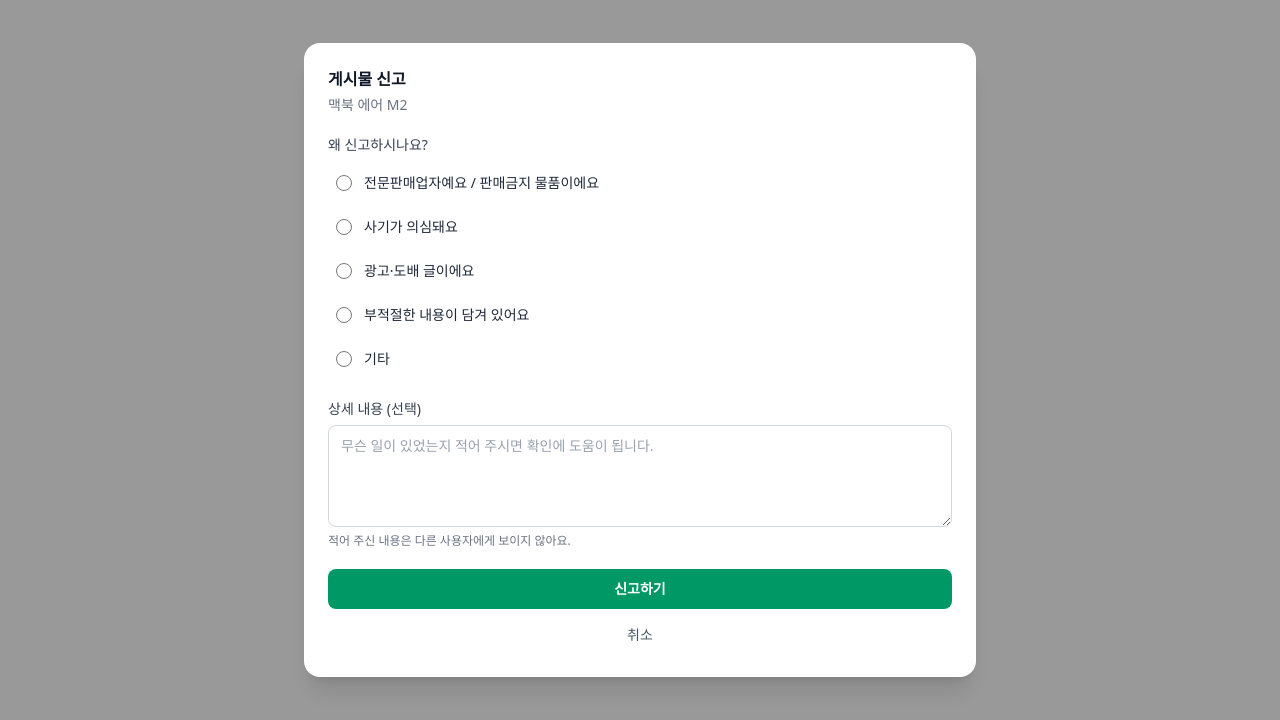
it: ReportSheet › 서버가 거절한 이유를 그대로 보여준다
Click the radio button labelled "사기가 의심돼요".
click(344, 227)  # box [336,219,352,235]
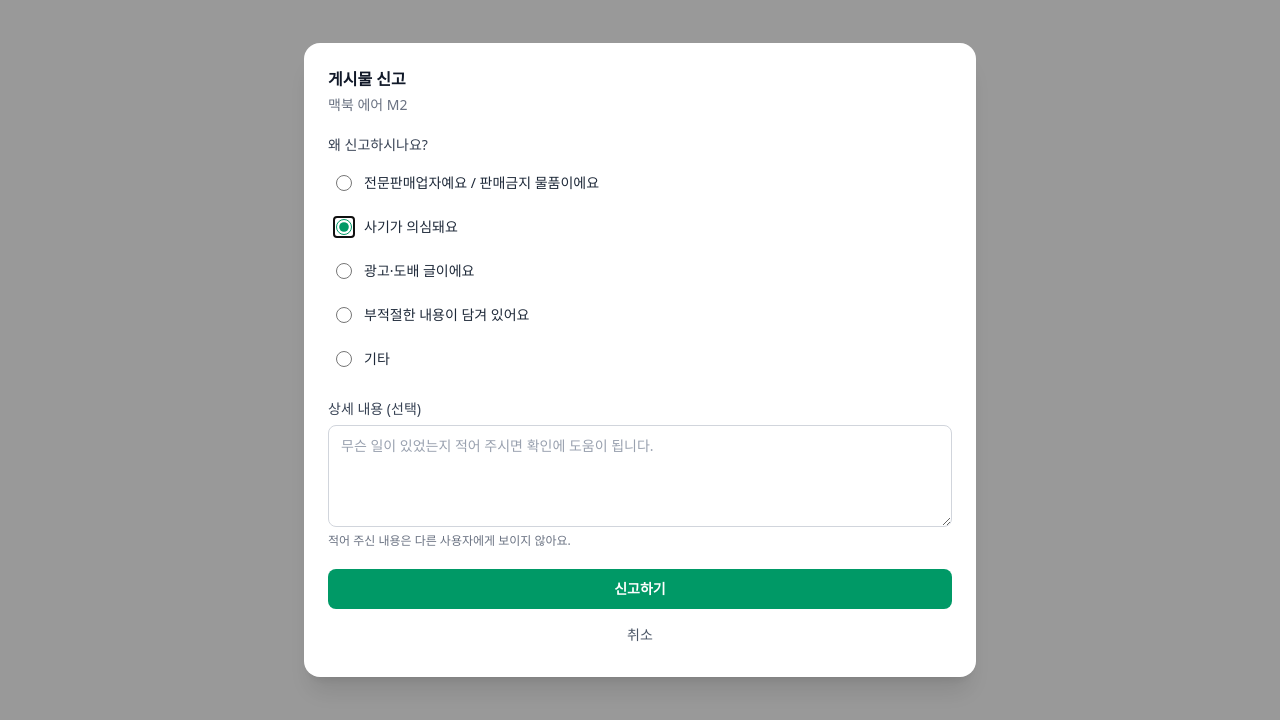
Click the button "신고하기".
click(640, 589)  # box [328,569,952,609]
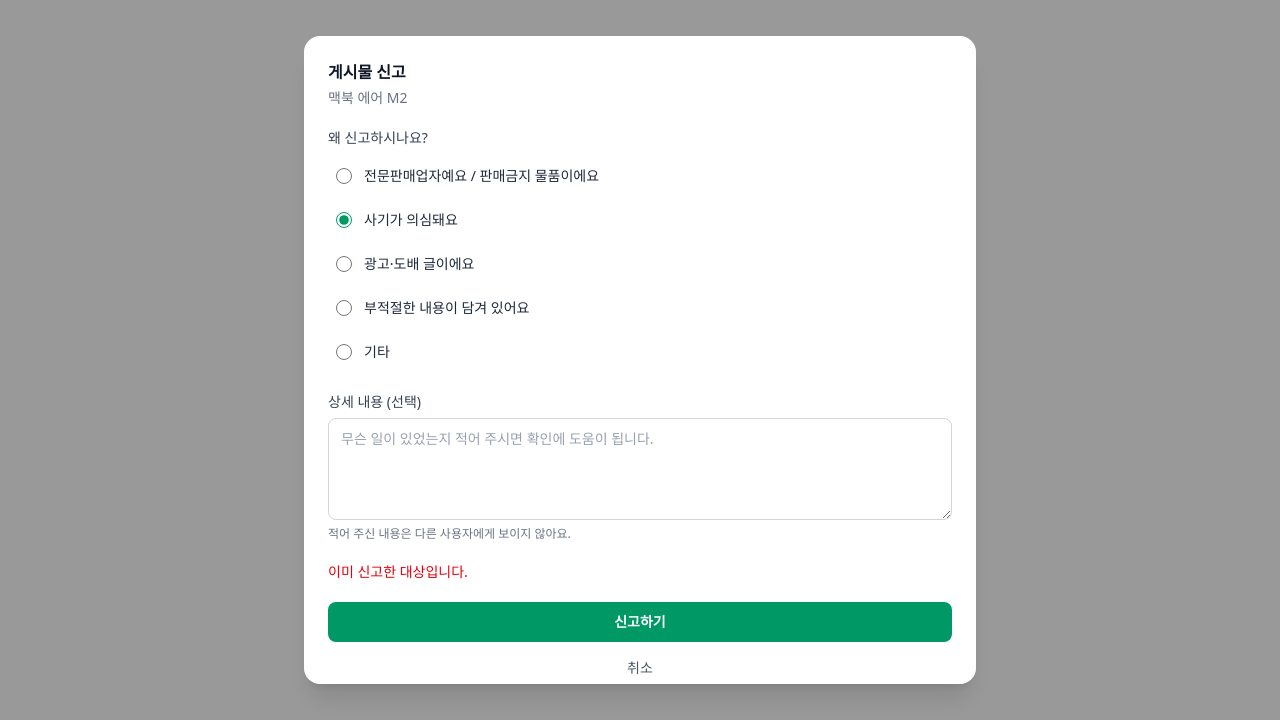
Expected: the text "이미 신고한 대상입니다." is shown, [328,562,468,581]
